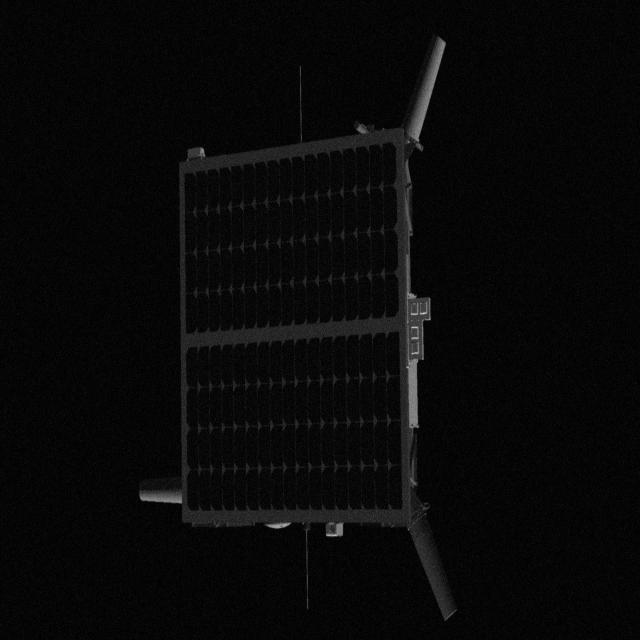medium_debris: (140, 34, 462, 622)
